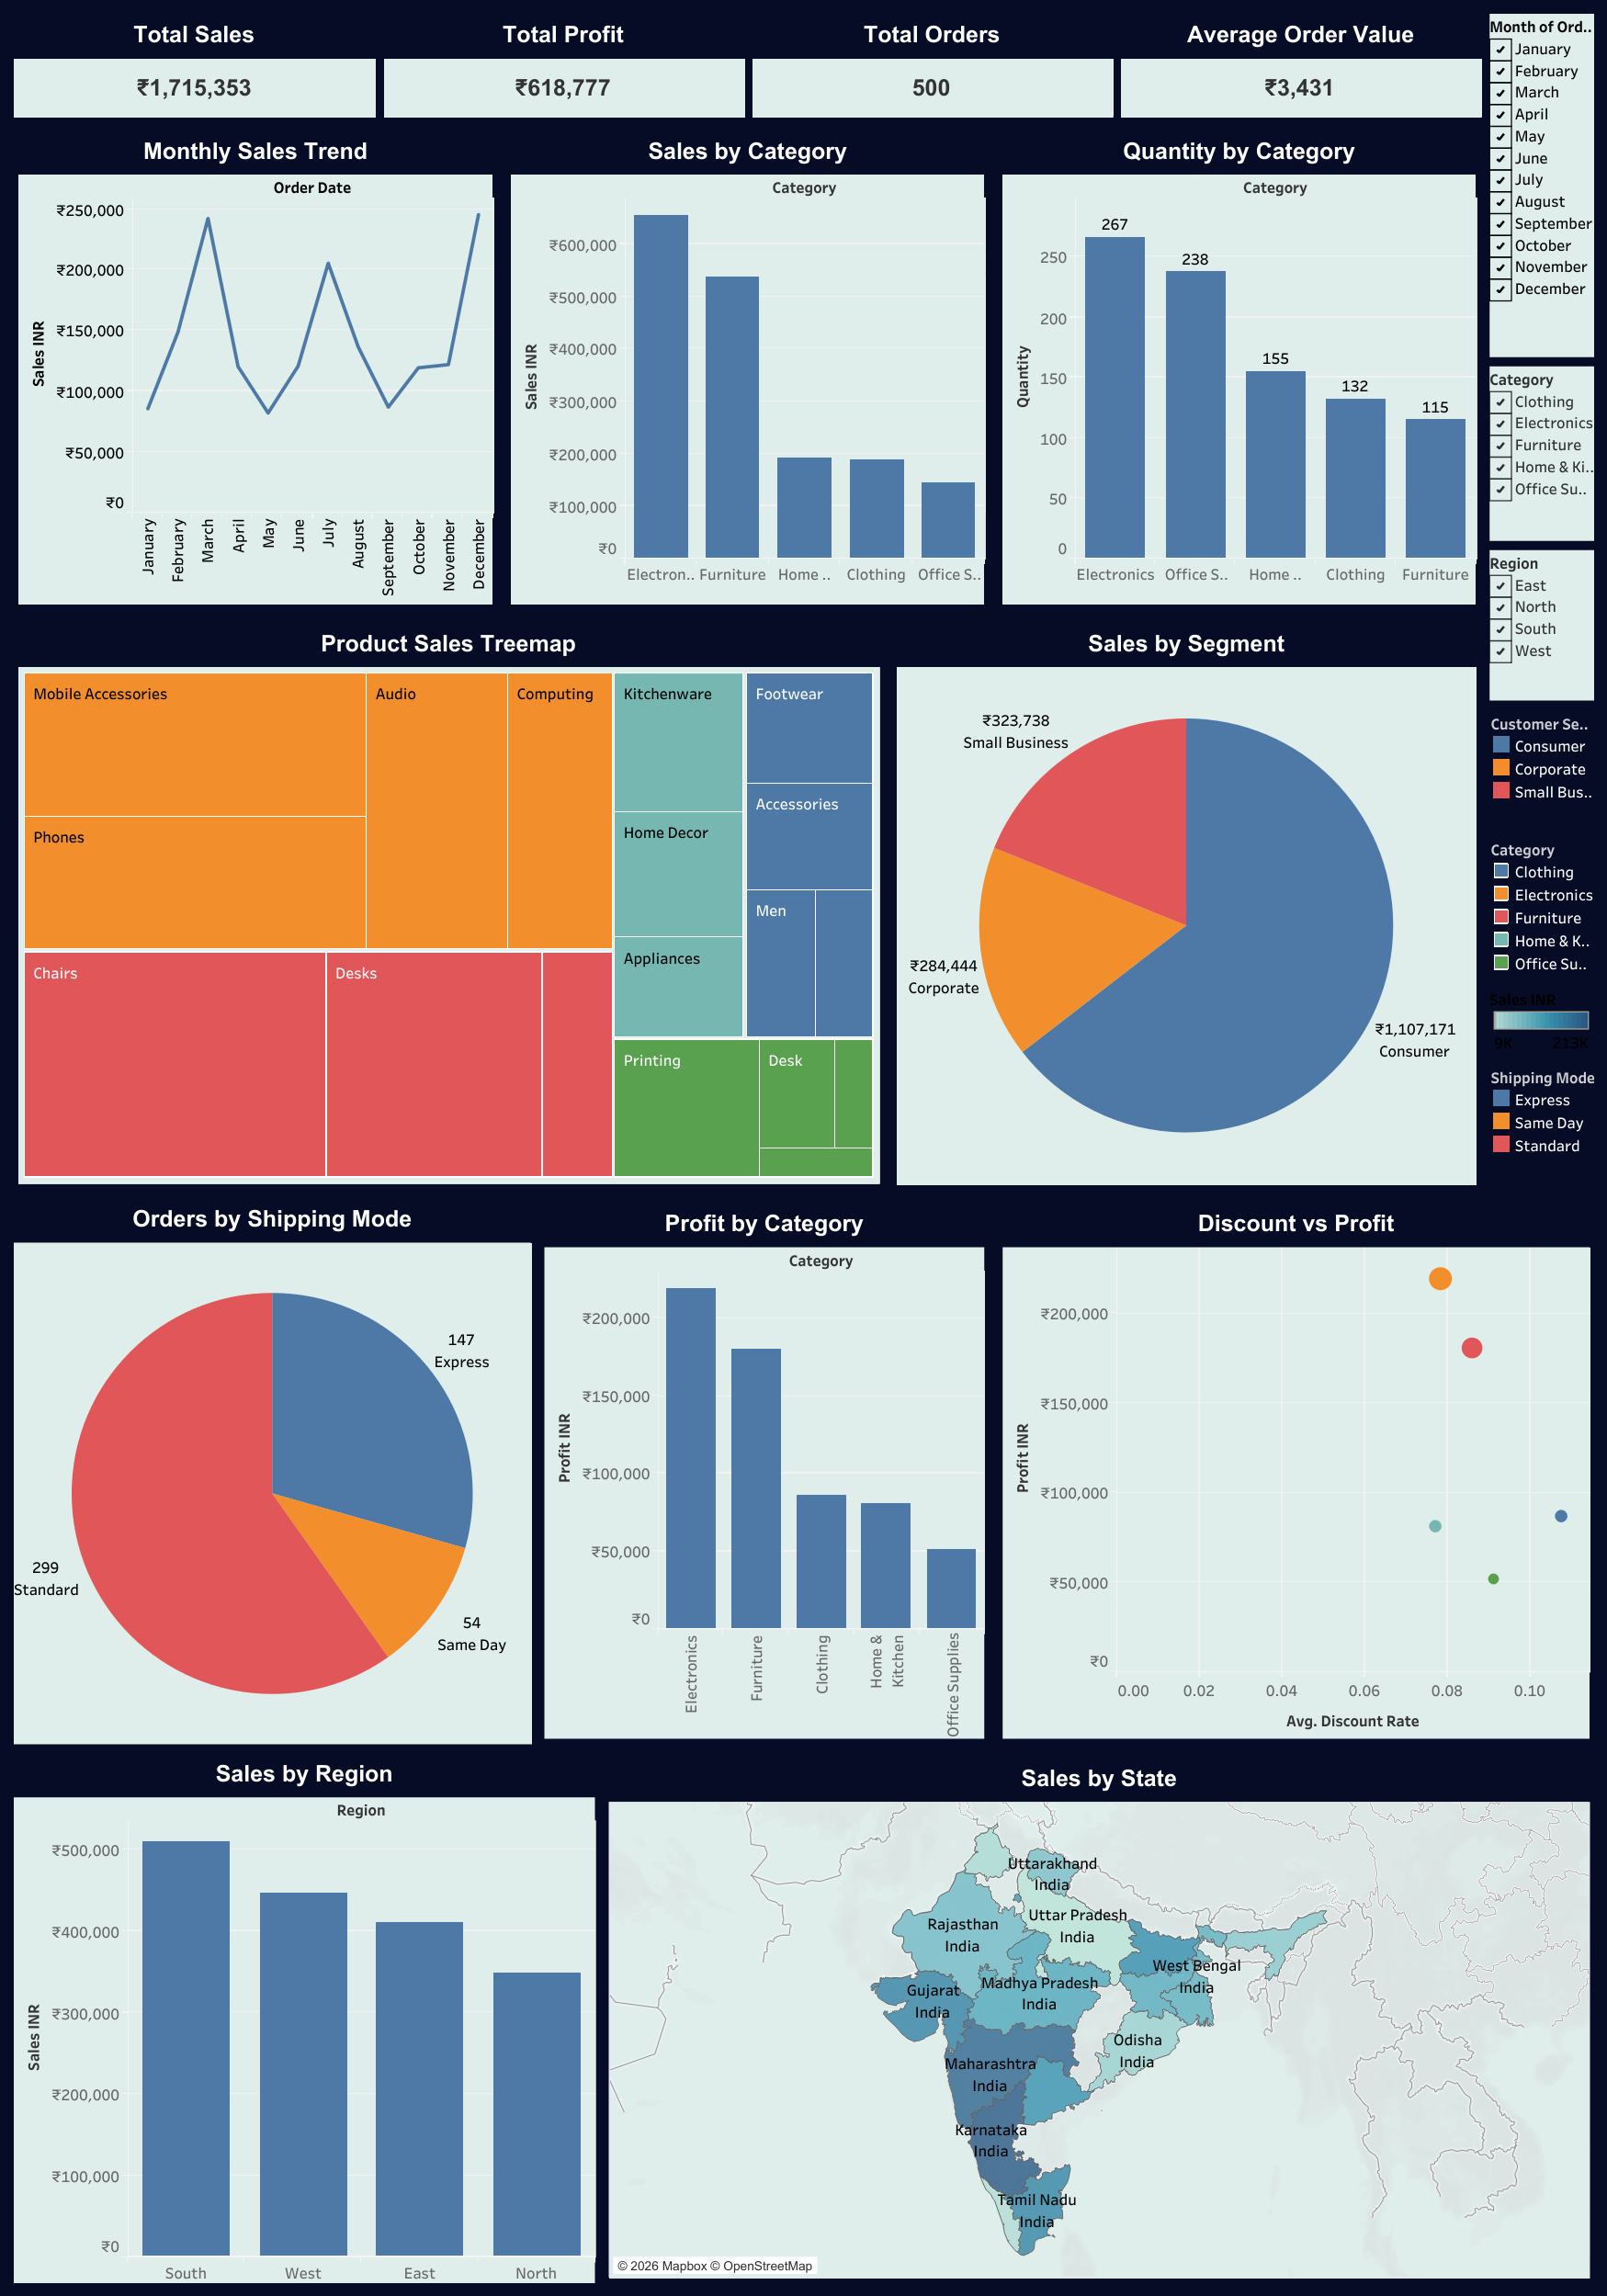

The page's visual inventory and layout, read from the dashboard file:
{"tool":"tableau","page":{"name":"Retail Sales Performance Dashboard | 2025","canvas":[1400,2000],"ordinal":0},"visuals":[{"type":"worksheet","title":"Total Sales","mark":"Automatic","box":[8,8,322,97]},{"type":"worksheet","title":"Total Profit","mark":"Automatic","box":[330,8,321,97]},{"type":"worksheet","title":"Total Orders","mark":"Automatic","box":[651,8,321,97]},{"type":"worksheet","title":"Average Order Value","mark":"Automatic","box":[972,8,321,97]},{"type":"filter","title":"Monthly Sales Trend","param":"[federated.1c0p8tk1aylo7914pki6513m61ct].[mn:Order_Date:ok]","box":[1293,8,99,207]},{"type":"worksheet","title":"Monthly Sales Trend","mark":"Line","rows":["Sales_INR"],"cols":["Order_Date"],"box":[8,105,429,429]},{"type":"worksheet","title":"Sales by Category","mark":"Automatic","rows":["Sales_INR"],"cols":["Category"],"box":[437,105,428,429]},{"type":"worksheet","title":"Quantity by Category","mark":"Automatic","rows":["Quantity"],"cols":["Category"],"box":[865,105,428,429]},{"type":"filter","title":"Sales by Category","param":"[federated.1c0p8tk1aylo7914pki6513m61ct].[none:Category:nk]","box":[1293,215,99,194]},{"type":"filter","title":"Sales by Region","param":"[federated.1c0p8tk1aylo7914pki6513m61ct].[none:Region:nk]","box":[1293,409,99,168]},{"type":"worksheet","title":"Product Sales Treemap","mark":"Automatic","box":[8,534,765,505]},{"type":"worksheet","title":"Sales by Segment","mark":"Pie","box":[773,534,520,505]},{"type":"legend","title":"Sales by Segment","param":"[federated.1c0p8tk1aylo7914pki6513m61ct].[none:Customer_Segment:nk]","box":[1293,577,99,104]},{"type":"legend","title":"Product Sales Treemap","param":"[federated.1c0p8tk1aylo7914pki6513m61ct].[sum:Sales_INR:qk]","box":[1293,681,99,24]},{"type":"legend","title":"Product Sales Treemap","param":"[federated.1c0p8tk1aylo7914pki6513m61ct].[none:Category:nk]","box":[1293,705,99,152]},{"type":"legend","title":"Sales by State","param":"[federated.1c0p8tk1aylo7914pki6513m61ct].[sum:Sales_INR:qk]","box":[1293,857,99,78]},{"type":"legend","title":"Orders by Shipping Mode","param":"[federated.1c0p8tk1aylo7914pki6513m61ct].[none:Shipping_Mode:nk]","box":[1293,935,99,104]},{"type":"worksheet","title":"Orders by Shipping Mode","mark":"Pie","box":[8,1039,458,483]},{"type":"worksheet","title":"Profit by Category","mark":"Automatic","rows":["Profit_INR"],"cols":["Category"],"box":[466,1039,399,483]},{"type":"worksheet","title":"Discount vs Profit","mark":"Circle","rows":["Profit_INR"],"cols":["Discount_Rate"],"box":[865,1039,527,483]},{"type":"worksheet","title":"Sales by Region","mark":"Automatic","rows":["Sales_INR"],"cols":["Region"],"box":[8,1522,514,470]},{"type":"worksheet","title":"Sales by State","mark":"Automatic","box":[522,1522,870,470]}]}

Visuals, with their boxes in screenshot pixels (x1, y1, x2, y2), scaled from the page's 1400x2000 canvas onto the 1607x2296 screenshot:
"Total Sales" worksheet: (9, 9, 379, 120)
"Total Profit" worksheet: (379, 9, 747, 120)
"Total Orders" worksheet: (747, 9, 1115, 120)
"Average Order Value" worksheet: (1115, 9, 1484, 120)
"Monthly Sales Trend" filter: (1484, 9, 1598, 247)
"Monthly Sales Trend" worksheet (Line marks): (9, 120, 502, 613)
"Sales by Category" worksheet: (502, 120, 993, 613)
"Quantity by Category" worksheet: (993, 120, 1484, 613)
"Sales by Category" filter: (1484, 247, 1598, 469)
"Sales by Region" filter: (1484, 469, 1598, 662)
"Product Sales Treemap" worksheet: (9, 613, 888, 1193)
"Sales by Segment" worksheet (Pie marks): (888, 613, 1484, 1193)
"Sales by Segment" legend: (1484, 662, 1598, 782)
"Product Sales Treemap" legend: (1484, 782, 1598, 809)
"Product Sales Treemap" legend: (1484, 809, 1598, 984)
"Sales by State" legend: (1484, 984, 1598, 1073)
"Orders by Shipping Mode" legend: (1484, 1073, 1598, 1193)
"Orders by Shipping Mode" worksheet (Pie marks): (9, 1193, 535, 1747)
"Profit by Category" worksheet: (535, 1193, 993, 1747)
"Discount vs Profit" worksheet (Circle marks): (993, 1193, 1598, 1747)
"Sales by Region" worksheet: (9, 1747, 599, 2287)
"Sales by State" worksheet: (599, 1747, 1598, 2287)
